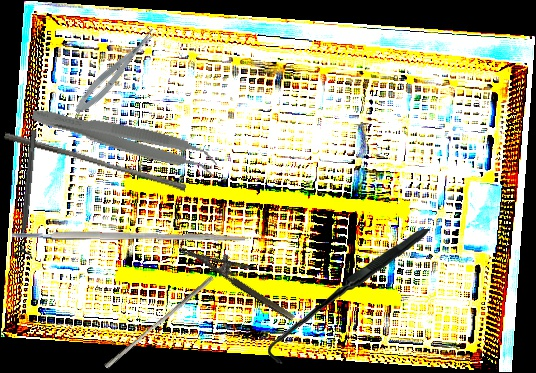Fixation Ring: (12, 128, 45, 260)
Hook Surgical: (267, 221, 431, 371)
Micro Scissor: (70, 26, 162, 118)
Needle Holder: (180, 230, 305, 323)
Pusher: (103, 271, 215, 373), (2, 132, 188, 192)
Scalpel Handle: (11, 228, 246, 244)
Tissue Forceps: (27, 101, 222, 181)
